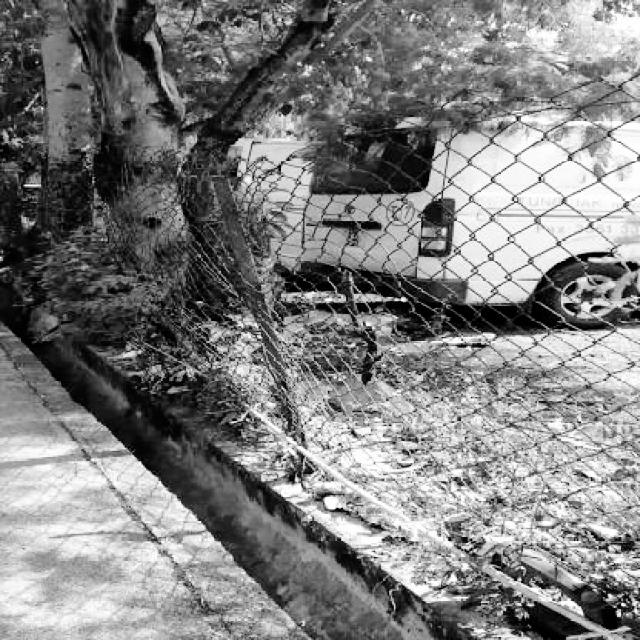anomaly-fence: (120, 112, 296, 450)
